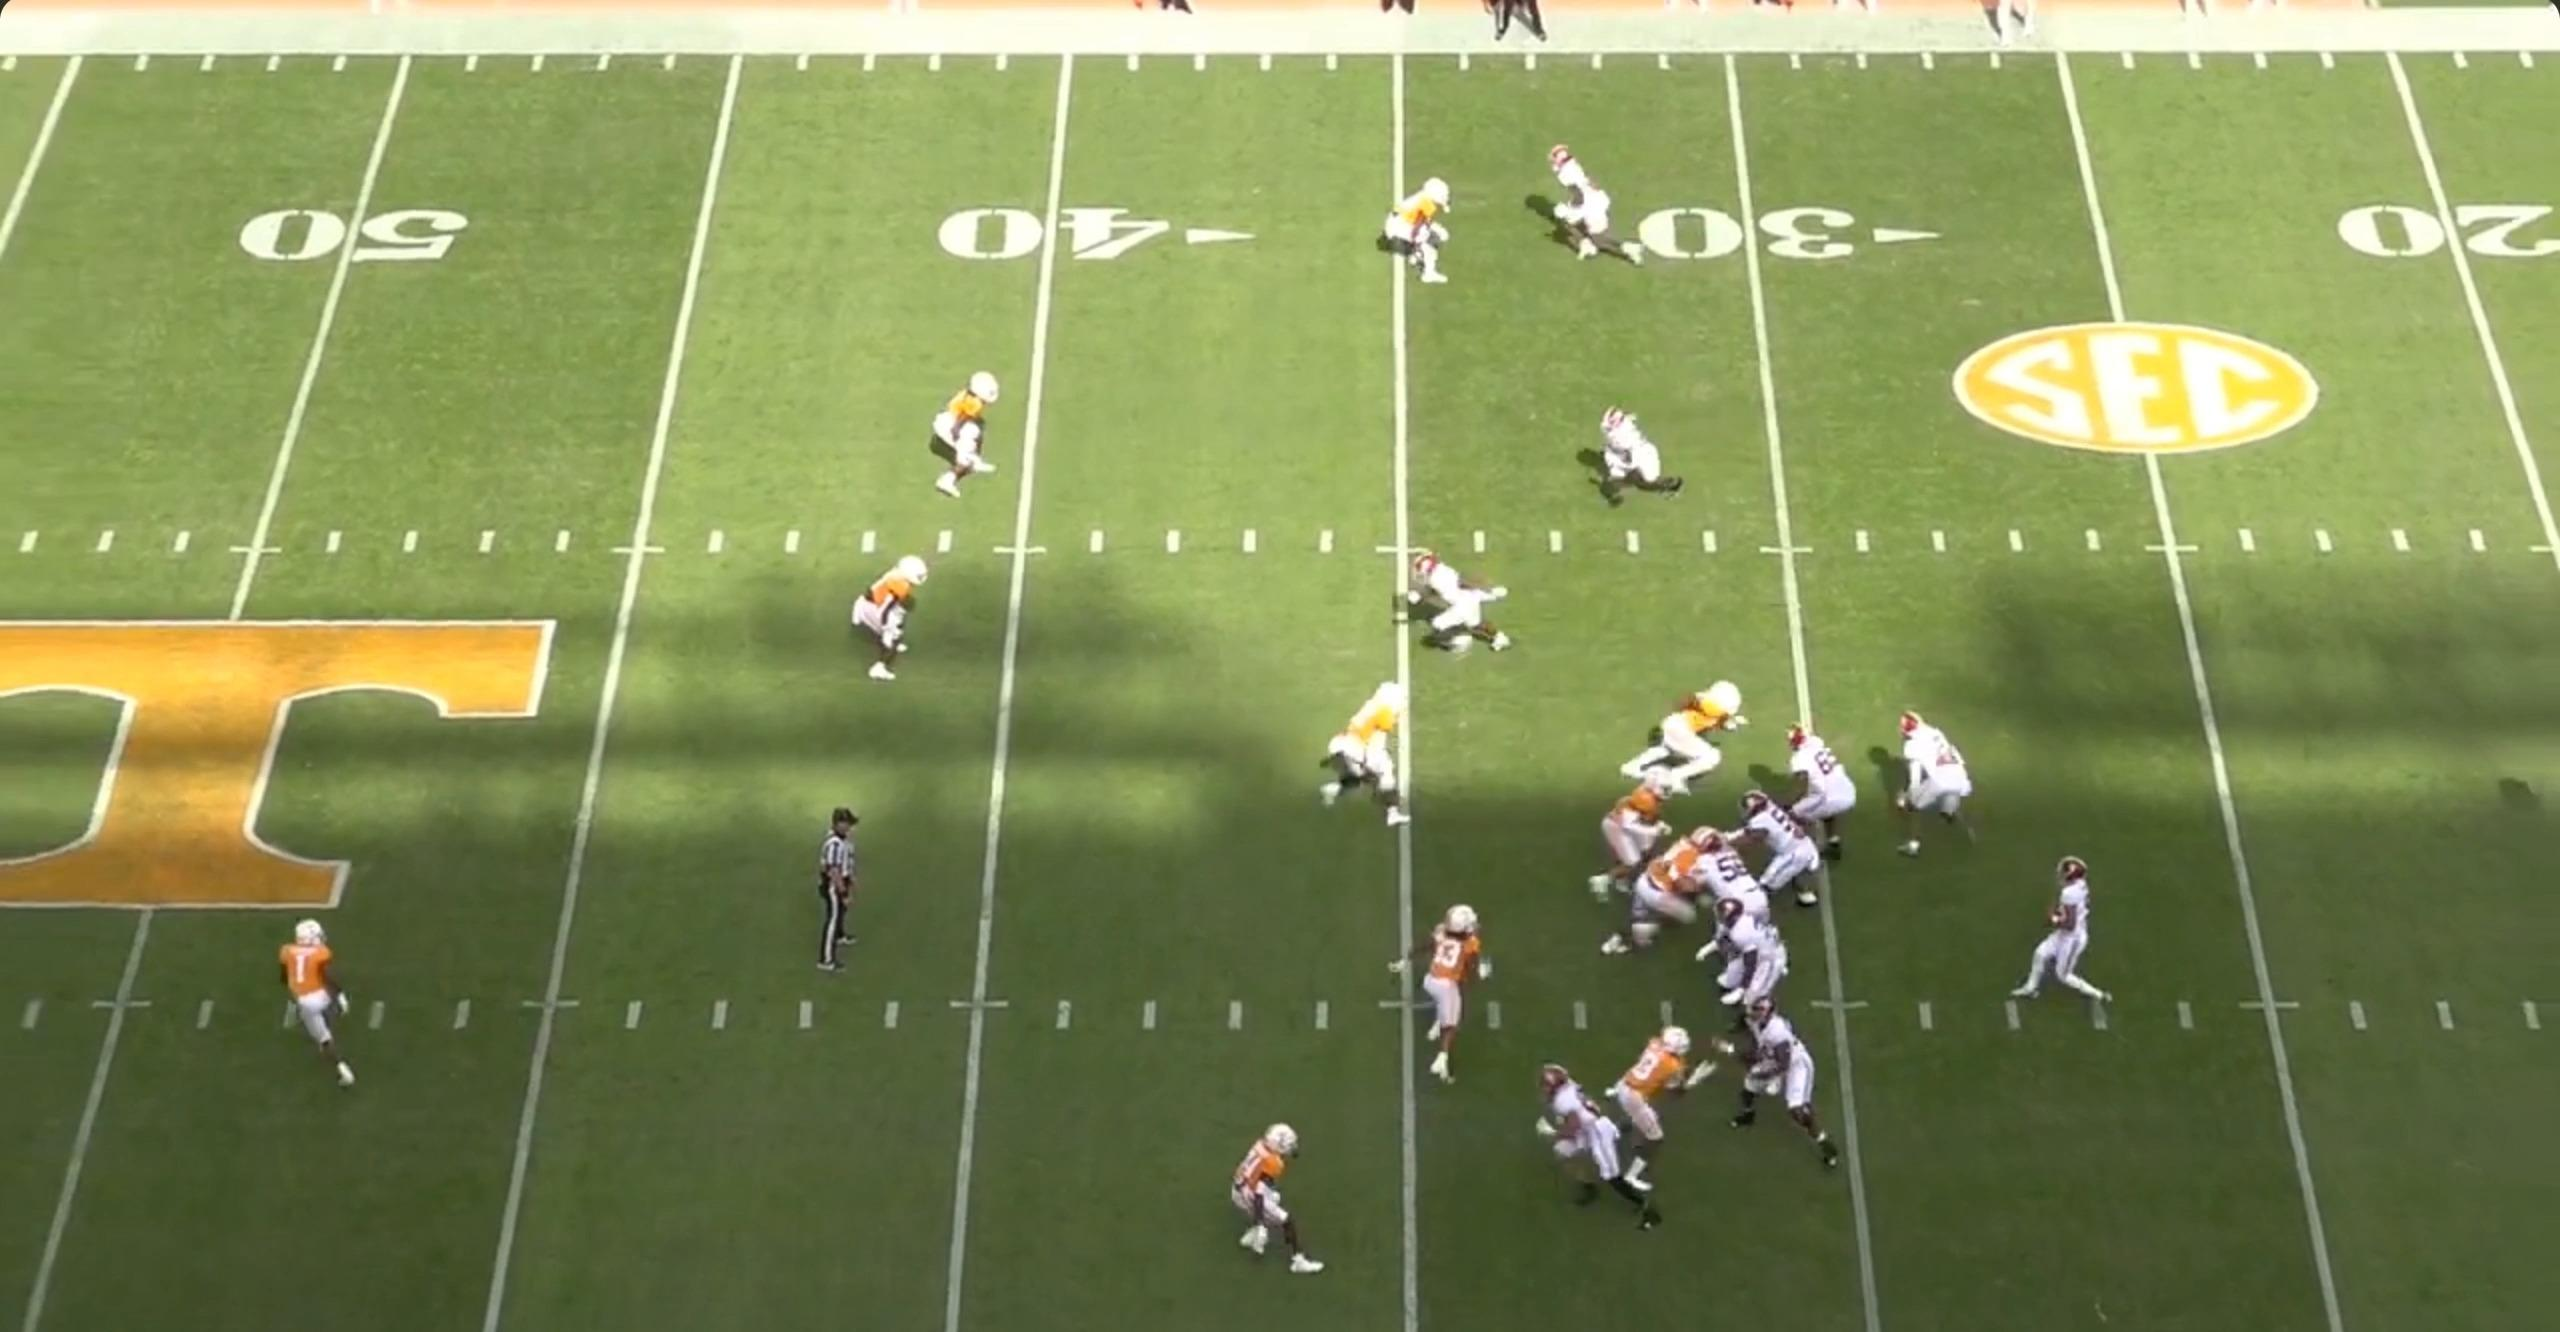player: (1535, 1054, 1674, 1235), (1394, 904, 1514, 1095), (1717, 996, 1837, 1169), (2005, 851, 2116, 1028), (1600, 1025, 1713, 1188), (1224, 1119, 1326, 1283), (1893, 699, 1995, 862), (1317, 679, 1422, 833), (1617, 671, 1748, 792), (276, 907, 362, 1089), (1589, 824, 1703, 959), (1592, 758, 1688, 899), (1534, 144, 1637, 274), (1398, 546, 1510, 665), (1730, 786, 1832, 915), (1782, 719, 1865, 860), (849, 552, 935, 687), (1696, 842, 1791, 958), (932, 367, 1013, 503), (1590, 410, 1691, 519), (1708, 892, 1784, 1014), (1388, 172, 1465, 289)
ref: (810, 804, 875, 984), (1972, 0, 2045, 49), (1485, 0, 1555, 49)
